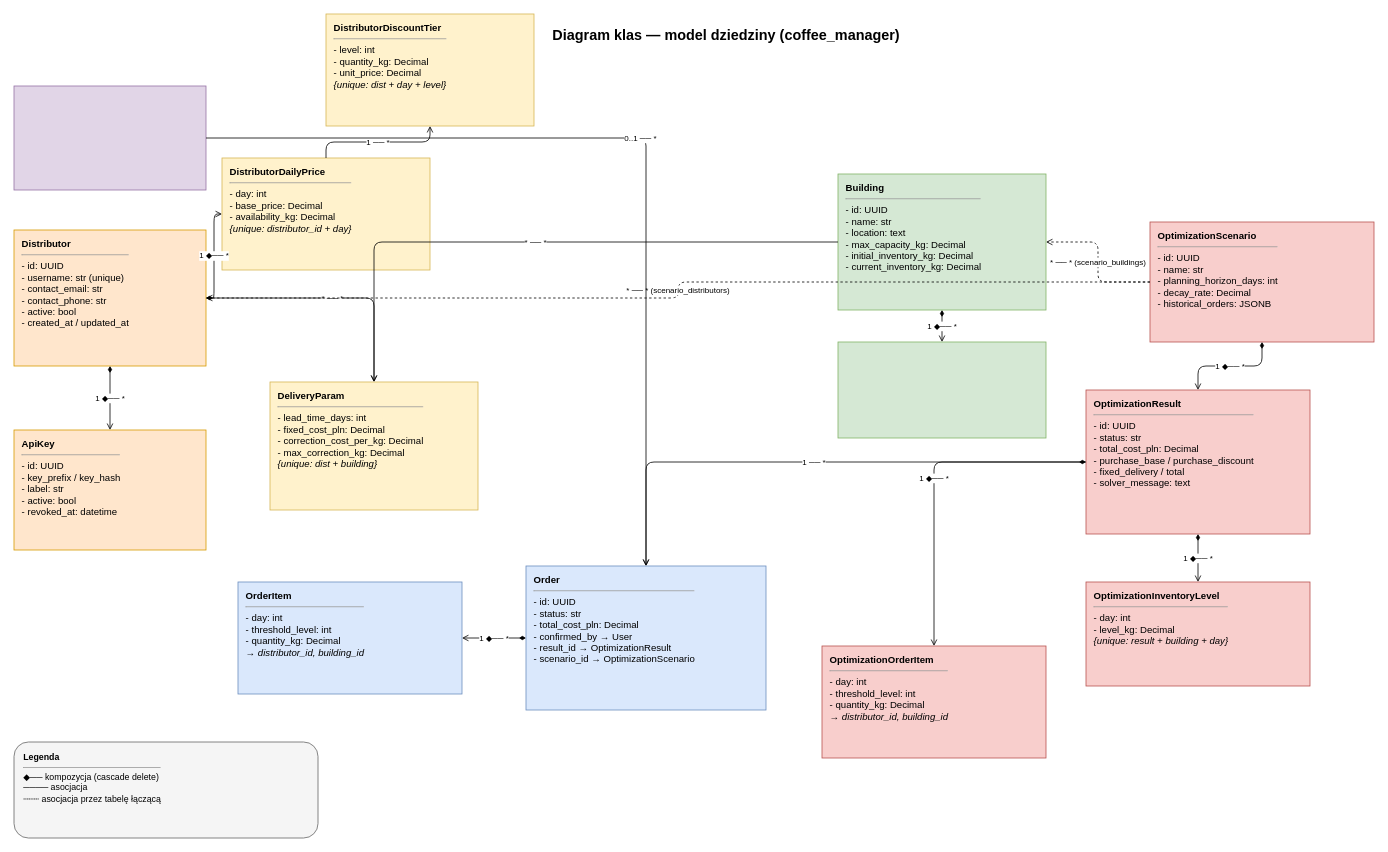
The diagram is 1388 pixels wide and 852 high, and some of its shapes have lost their labels. The centre of each missing label's shape, as x and y in pixels:
"BuildingDailyDemand - day: int - demand_kg: Decimal {unique: building + day}" goes at point 941,389.
"User - id: UUID - name: str (unique) - password_hash: str - role: str" goes at point 109,137.
